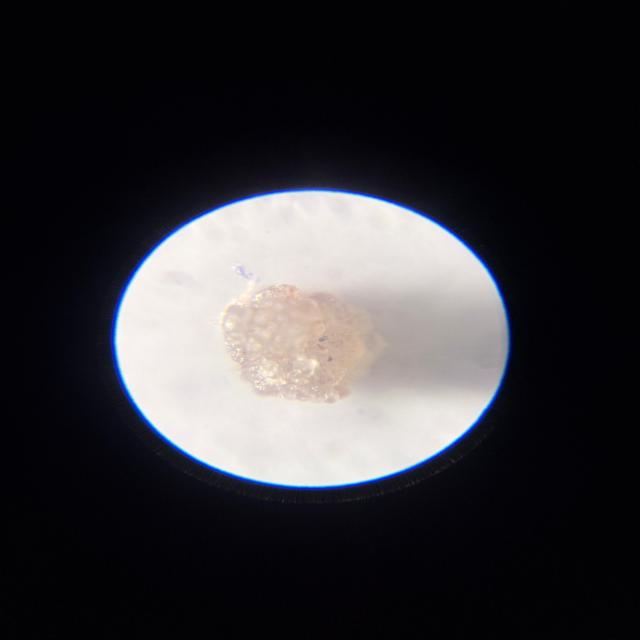microplastic_type_1: (221, 285, 384, 403)
